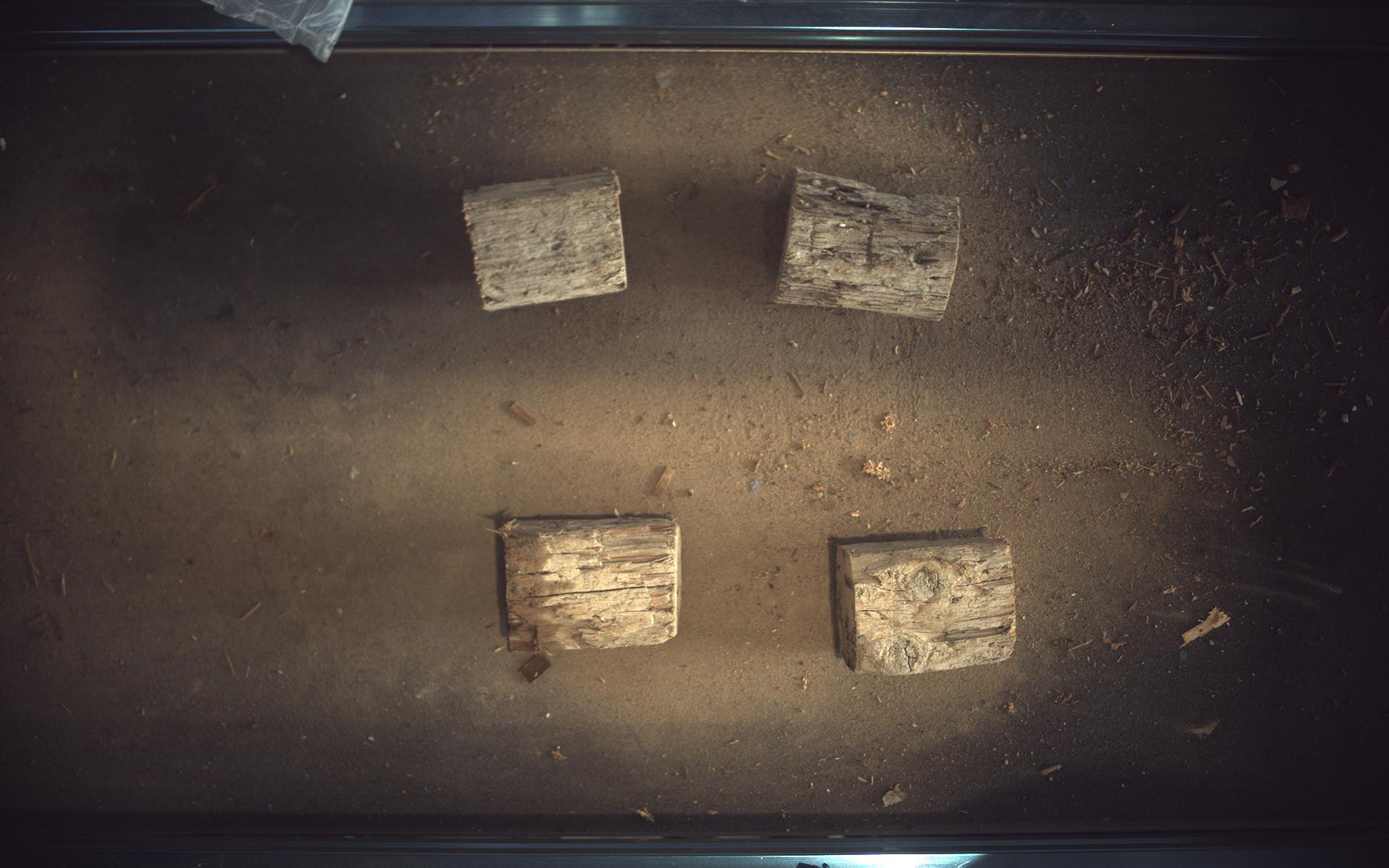wood: (773, 168, 962, 320), (832, 529, 1018, 676), (502, 516, 681, 653), (464, 169, 628, 310)
